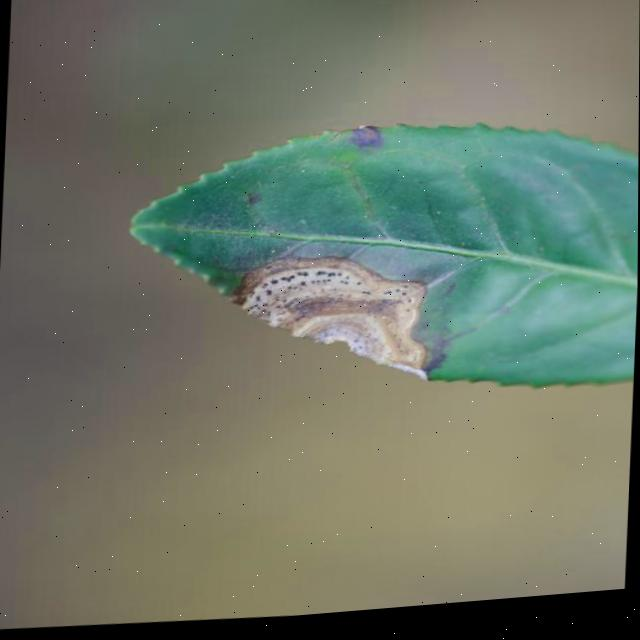Tea cloud leaf blight: (222, 246, 426, 395)
